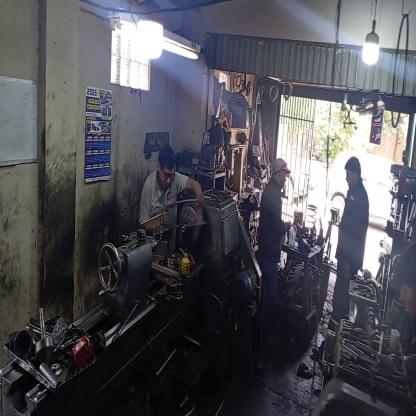lentes: (160, 164, 174, 184)
